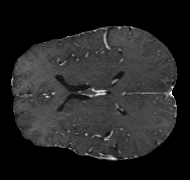Edema: (84, 111, 133, 140)
EnhancingTumors: (106, 128, 130, 139)
